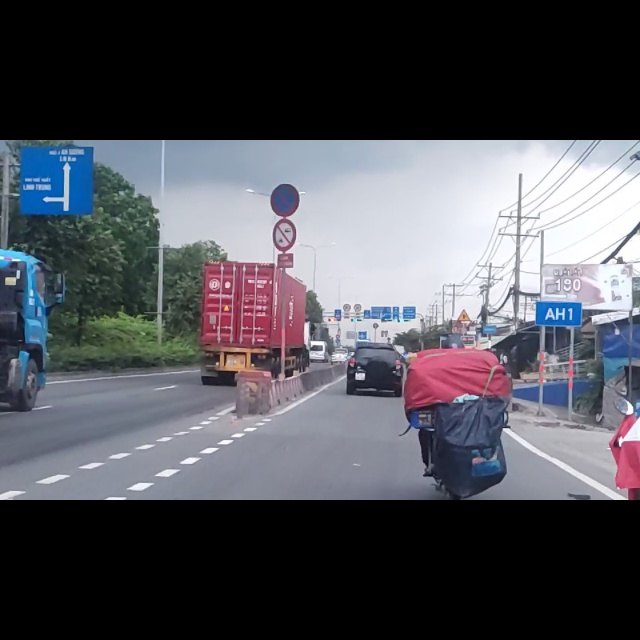bien_hieu_lenh: (270, 77, 300, 136), (271, 139, 298, 197)
